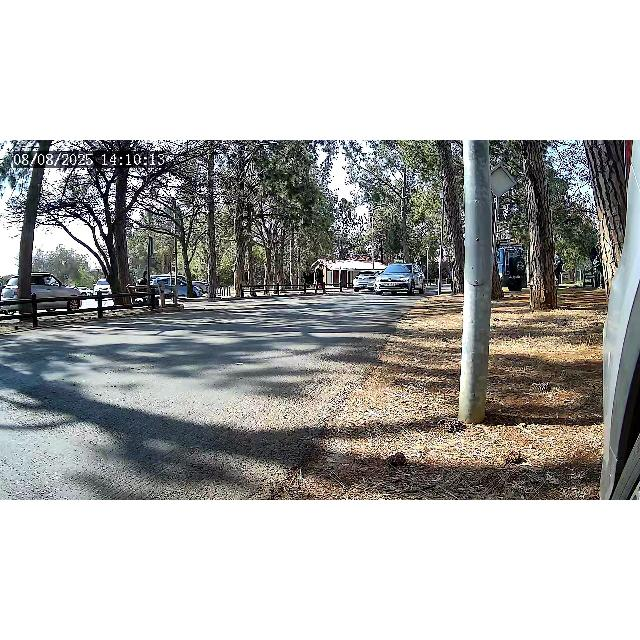car: (0, 272, 82, 313), (374, 264, 424, 296), (148, 278, 204, 302), (351, 269, 384, 291)
